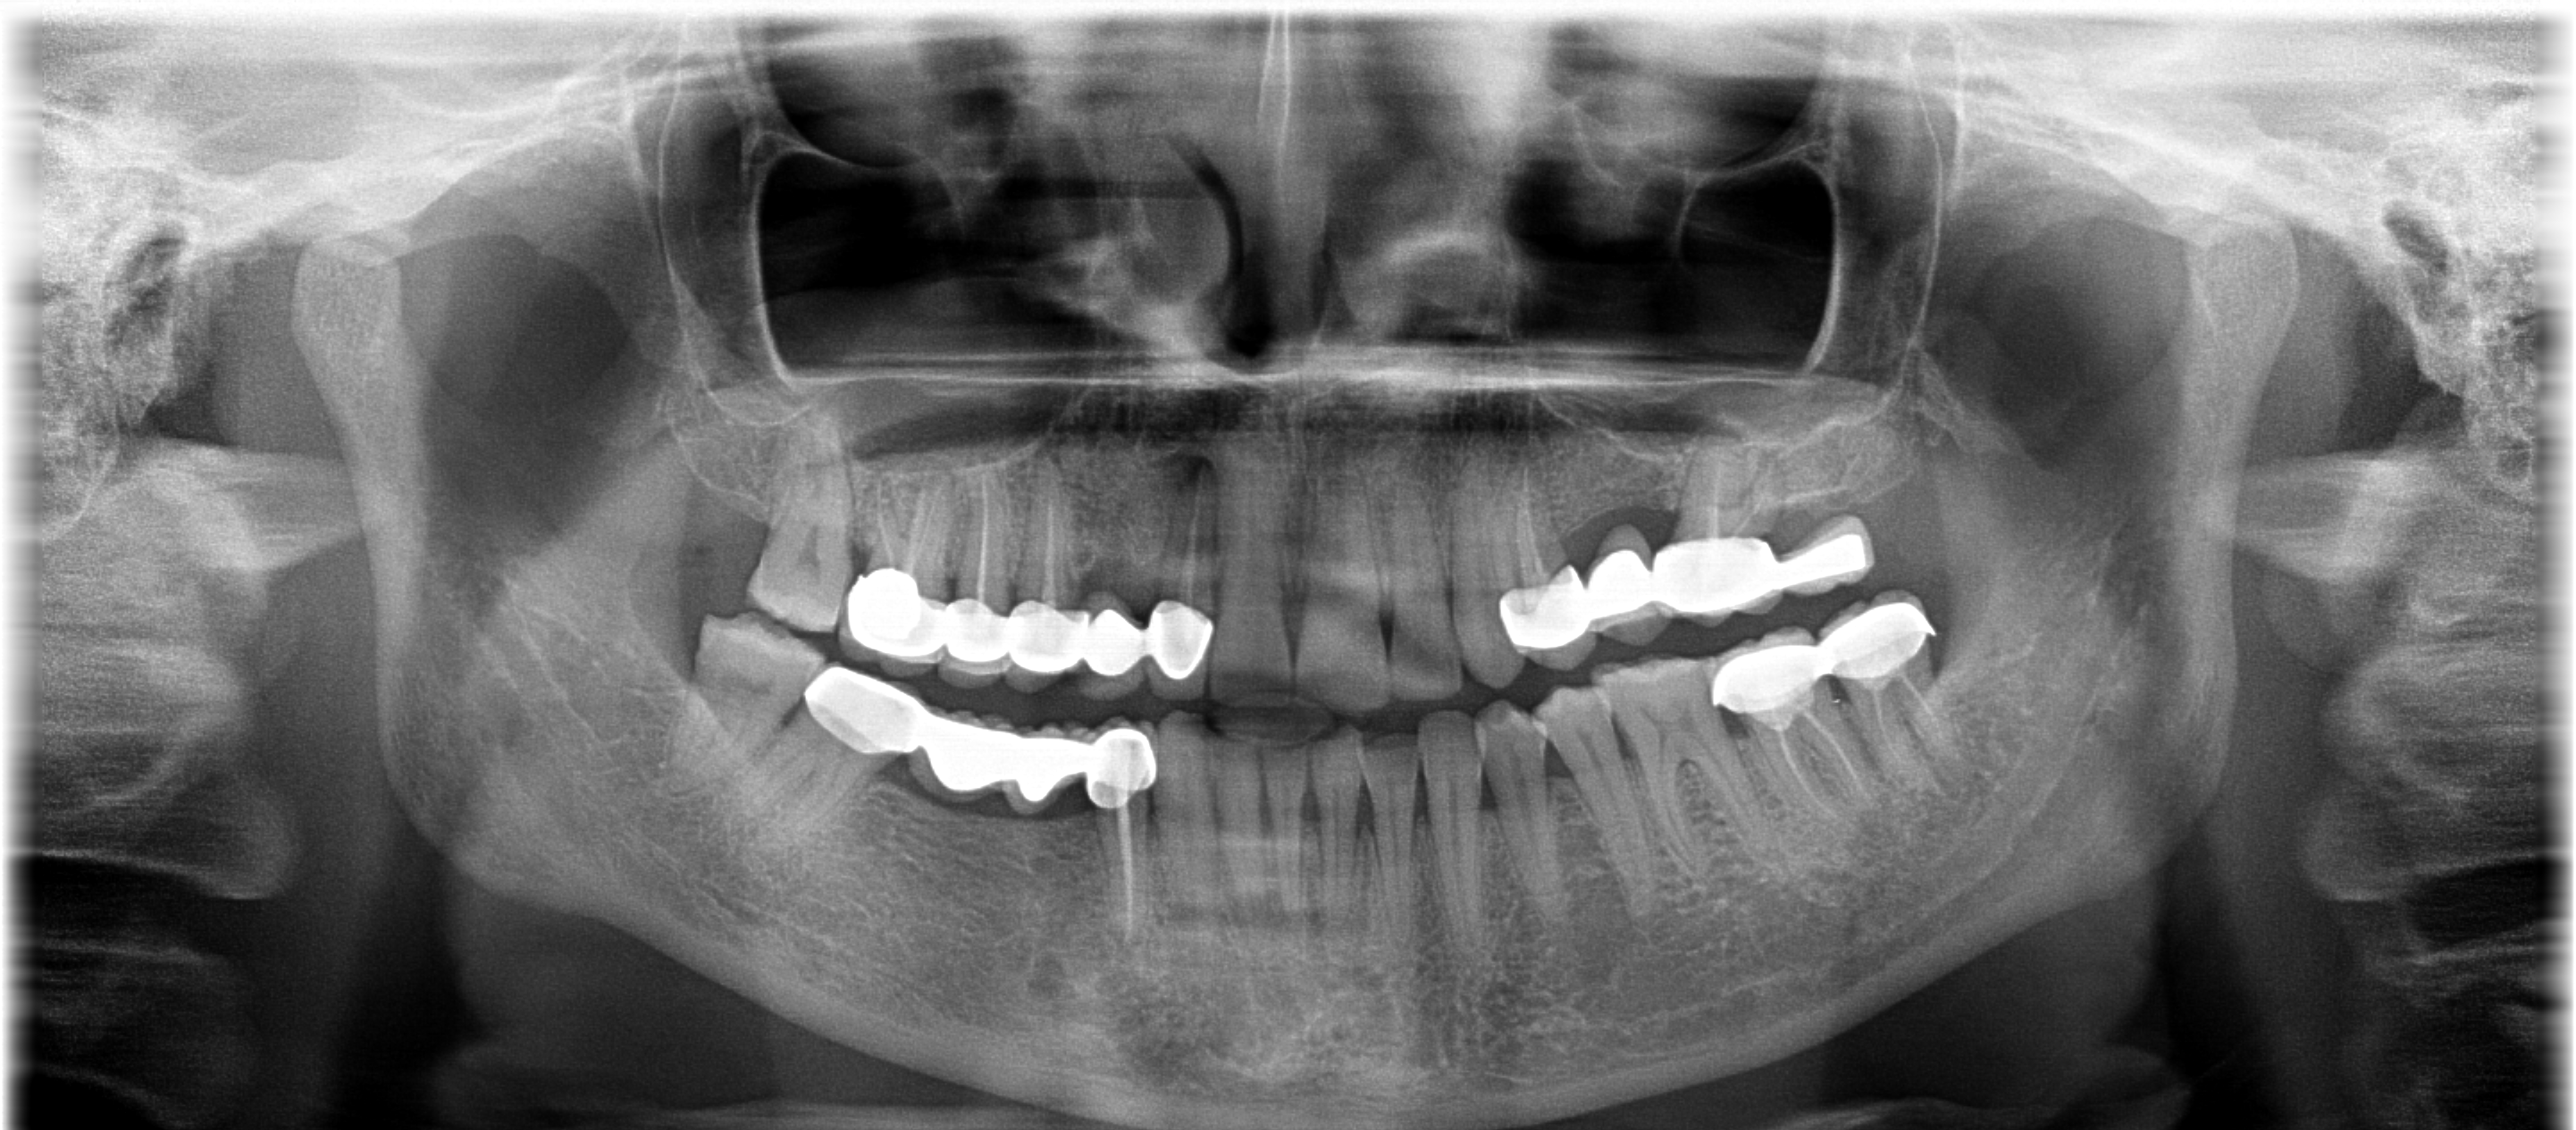cordal: (1807, 578, 1998, 828), (642, 595, 826, 808)
tratamiento_conducto: (1814, 593, 1971, 821), (1066, 714, 1170, 959)
